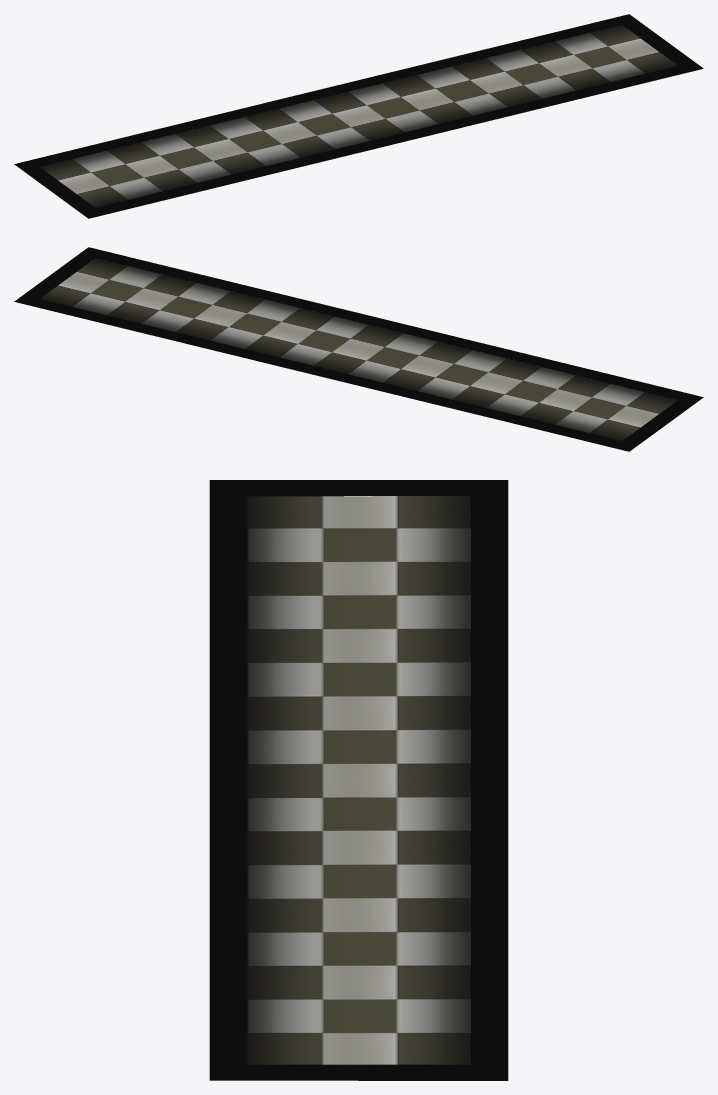
The model's file is stadium_start.glb.
The picture shows the model from 3 angles, top to bottom: view 1: azimuth 30°, elevation 25°; view 2: azimuth 150°, elevation 25°; view 3: azimuth 270°, elevation 25°; orthographic projection. The views are drawn at different scales.
Visible parts, largest first — view 1: Object_32; view 2: Object_32; view 3: Object_32.
Boxes of the visible parts, x1,y1,x2,y2 form: Object_32: (14,14,703,218); Object_32: (14,247,703,451); Object_32: (209,480,508,1080).
Size of the model in its own units: 7.62 by 0.000931 by 1.6.
1 material, 1 textured.
